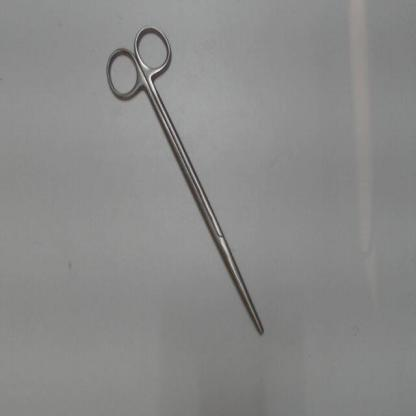9 Metzenbaum Scissors: (100, 15, 268, 340)
